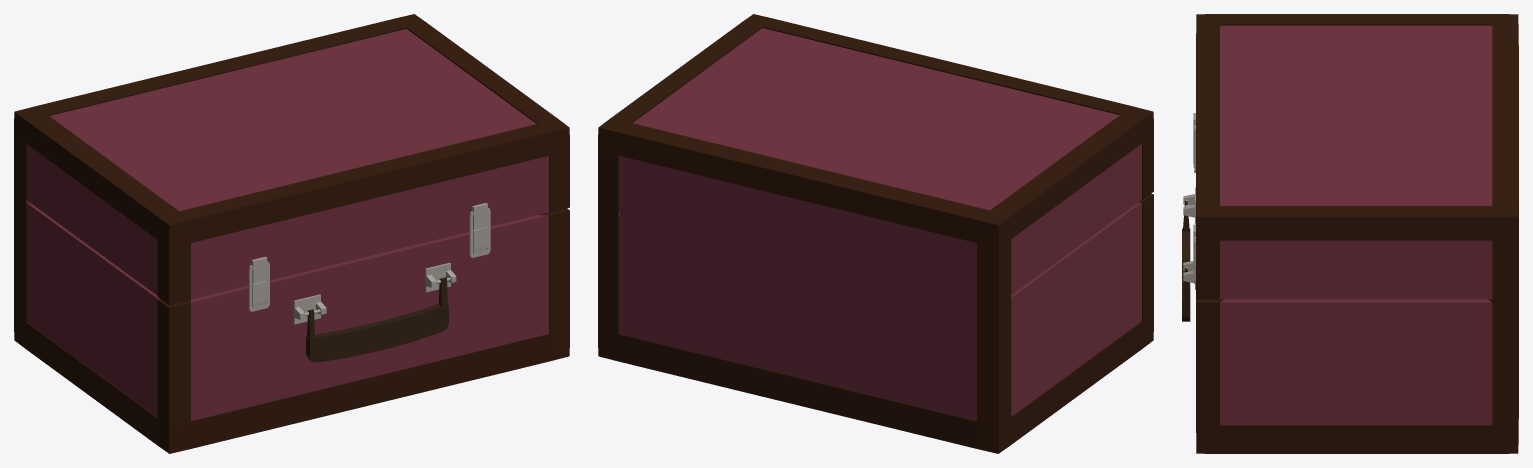
The model's file is luggage 3.fbx.
3 views of the same model, side by side, from view 1: azimuth 30°, elevation 25°; view 2: azimuth 150°, elevation 25°; view 3: azimuth 270°, elevation 25° (orthographic). The views are drawn at different scales.
Parts seen in each view (by area): view 1: luggage4; view 2: luggage4; view 3: luggage4.
Part boxes in pixels (x1,y1,x2,y2): luggage4: (14,14,569,453); luggage4: (598,14,1153,453); luggage4: (1182,14,1518,453).
Bounding box in the file's own units: 0.4318 × 0.2364 × 0.3028.
